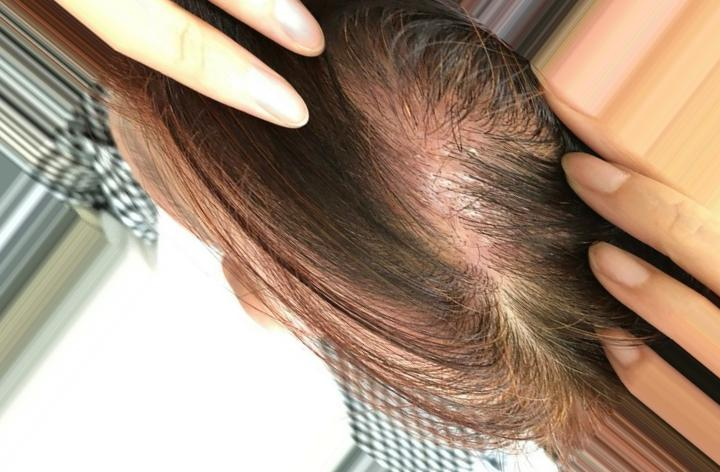Contact Dermatitis: (349, 69, 528, 311)
